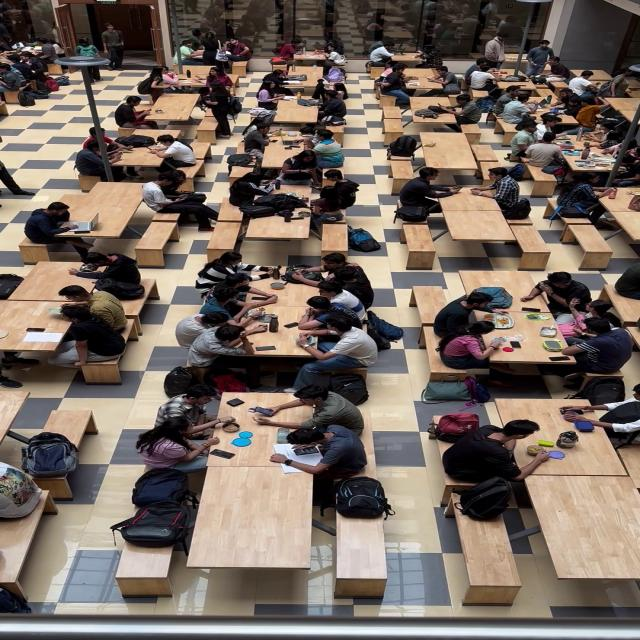Occupied: (186, 389, 367, 467), (483, 115, 621, 197), (492, 398, 632, 478), (196, 303, 368, 356), (442, 420, 542, 485), (482, 85, 586, 143), (272, 422, 368, 481), (229, 281, 347, 329), (5, 280, 157, 316), (194, 346, 366, 376), (6, 260, 156, 294), (471, 317, 576, 365), (134, 416, 218, 472), (154, 384, 237, 440), (140, 175, 218, 233), (567, 384, 640, 444), (566, 86, 638, 145), (229, 133, 321, 177), (195, 290, 281, 334), (112, 142, 210, 180), (213, 392, 334, 422), (552, 170, 618, 223), (3, 305, 89, 343), (24, 203, 90, 252), (294, 276, 368, 317), (240, 208, 316, 247), (290, 254, 368, 292), (196, 252, 278, 288), (75, 134, 136, 182), (398, 168, 460, 214), (452, 476, 514, 521), (20, 432, 79, 478), (130, 467, 197, 507), (520, 273, 590, 308), (426, 344, 483, 386), (562, 139, 626, 175), (227, 169, 284, 209), (471, 167, 521, 210), (139, 94, 200, 127), (276, 58, 330, 95), (271, 150, 322, 189), (118, 123, 199, 147), (544, 82, 597, 117), (537, 112, 592, 144), (495, 75, 556, 100), (431, 412, 480, 443), (577, 376, 626, 406), (308, 132, 346, 170), (114, 96, 157, 129), (437, 94, 482, 125), (328, 373, 369, 405), (599, 399, 640, 429), (594, 114, 629, 146), (12, 54, 48, 85), (94, 279, 146, 300), (315, 91, 347, 125), (367, 311, 404, 340), (160, 67, 202, 92), (0, 584, 33, 614), (255, 82, 290, 110), (556, 196, 598, 219), (164, 366, 196, 396), (567, 72, 601, 100), (426, 66, 458, 95), (328, 181, 360, 210), (269, 104, 320, 122), (28, 43, 62, 70), (291, 127, 325, 153), (473, 286, 513, 308), (495, 87, 529, 112), (374, 71, 408, 96), (203, 68, 234, 95), (348, 226, 380, 252), (253, 193, 301, 210), (462, 376, 491, 404), (179, 40, 209, 67), (468, 64, 499, 90), (311, 78, 346, 101), (553, 134, 587, 156), (212, 373, 249, 393), (387, 135, 419, 158), (369, 41, 397, 67), (596, 104, 626, 128), (262, 69, 296, 90), (222, 38, 252, 61), (501, 198, 532, 220), (237, 204, 279, 220), (310, 196, 342, 217), (393, 205, 430, 222), (1, 45, 29, 67), (598, 78, 628, 98), (0, 274, 24, 297), (116, 134, 155, 148), (243, 131, 270, 151), (2, 70, 27, 90), (323, 64, 346, 85), (323, 47, 347, 66), (390, 53, 425, 66), (542, 163, 567, 180), (11, 40, 43, 53), (173, 192, 207, 204), (475, 95, 497, 113), (226, 154, 256, 167), (516, 114, 538, 131), (422, 51, 444, 68), (137, 77, 156, 95), (506, 163, 526, 180), (226, 96, 243, 116), (24, 86, 50, 99), (456, 110, 480, 124), (256, 110, 276, 126), (195, 92, 211, 112), (18, 90, 36, 106), (245, 149, 264, 164), (316, 212, 344, 222), (321, 115, 346, 126), (414, 109, 440, 119), (42, 75, 58, 91), (34, 79, 52, 93), (247, 108, 274, 117), (443, 82, 461, 94), (226, 53, 250, 62), (389, 44, 407, 56), (488, 87, 503, 100), (502, 74, 526, 82), (53, 75, 70, 86), (297, 98, 320, 106), (283, 74, 306, 82), (215, 50, 231, 61), (271, 56, 289, 65), (272, 45, 286, 55), (534, 77, 546, 83), (368, 62, 376, 68), (416, 53, 425, 58)
Unoccupied: (182, 467, 314, 572), (527, 472, 639, 583), (450, 494, 522, 604), (292, 332, 375, 401), (176, 327, 268, 385), (334, 504, 389, 601), (1, 494, 48, 604), (115, 530, 177, 597), (445, 210, 523, 242), (568, 220, 623, 264), (132, 220, 180, 264), (418, 134, 472, 173), (40, 410, 97, 445), (507, 223, 553, 265), (0, 389, 32, 449), (401, 222, 437, 268), (522, 132, 566, 169), (205, 221, 246, 257), (214, 198, 254, 224), (294, 53, 341, 74), (320, 223, 348, 254), (381, 100, 406, 134), (392, 65, 440, 82), (195, 128, 218, 148)
